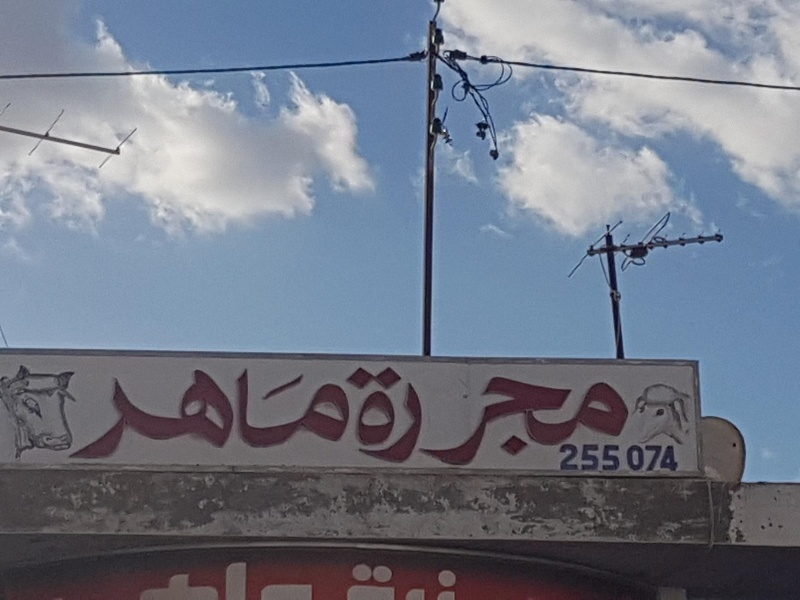text: (353, 366, 368, 485), (369, 366, 384, 485), (385, 366, 400, 485), (401, 366, 416, 485), (417, 366, 432, 485), (433, 366, 448, 485), (449, 366, 464, 485), (465, 366, 480, 485), (481, 366, 496, 485), (497, 366, 512, 485), (513, 366, 528, 485), (529, 366, 544, 485), (545, 366, 560, 485), (561, 366, 576, 485), (577, 366, 592, 485), (593, 366, 608, 485), (609, 366, 624, 485), (81, 368, 96, 462), (97, 368, 112, 462), (113, 368, 128, 462), (129, 368, 144, 462), (145, 368, 160, 462), (161, 368, 176, 462), (177, 368, 192, 462), (193, 368, 208, 462), (209, 368, 224, 462), (225, 368, 240, 462), (241, 368, 256, 462), (257, 368, 272, 462), (273, 368, 288, 462), (289, 368, 304, 462), (305, 368, 320, 462), (321, 368, 336, 462), (66, 368, 80, 462), (337, 368, 351, 462), (341, 366, 352, 485), (625, 366, 633, 485), (145, 559, 160, 599), (161, 559, 176, 599), (177, 559, 192, 599), (193, 559, 208, 599), (209, 559, 224, 599), (225, 559, 240, 599), (241, 559, 256, 599), (257, 559, 272, 599), (273, 559, 288, 599), (289, 559, 304, 599), (305, 559, 320, 599), (321, 559, 336, 599), (337, 559, 352, 599), (353, 559, 368, 599), (369, 559, 384, 599), (385, 559, 400, 599), (401, 559, 416, 599), (417, 559, 432, 599), (433, 559, 448, 599), (449, 559, 464, 599), (561, 443, 576, 472), (577, 443, 592, 472), (593, 443, 608, 472), (641, 444, 656, 473), (657, 444, 672, 473), (626, 444, 640, 473), (135, 559, 144, 599), (609, 443, 621, 472), (465, 559, 470, 599), (673, 444, 679, 473)
